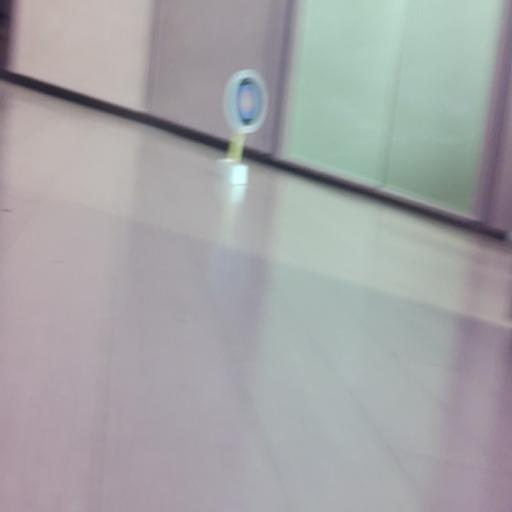target: (223, 70, 268, 134)
